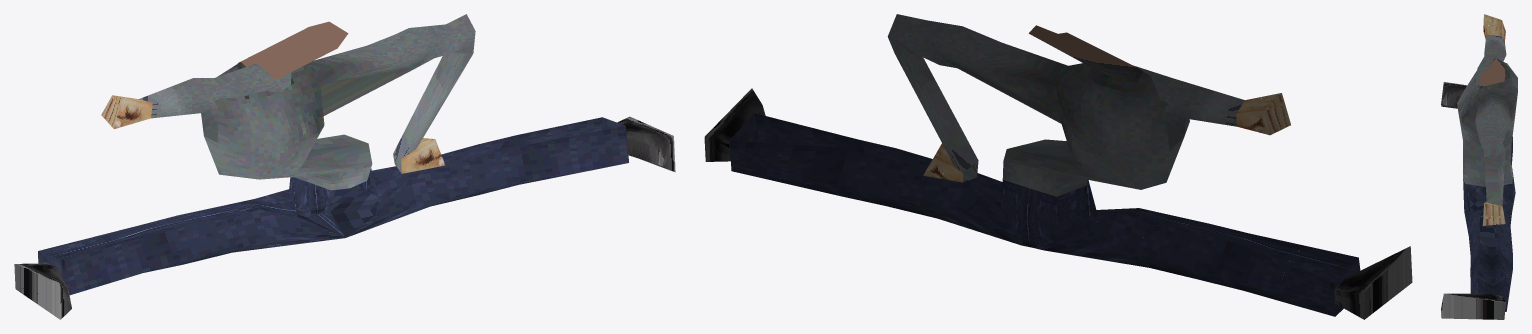
Rendered from CgreymanZ.obj.
3 views of the same model, side by side, from view 1: azimuth 30°, elevation 25°; view 2: azimuth 150°, elevation 25°; view 3: azimuth 270°, elevation 25° (orthographic). The views are drawn at different scales.
Bounding box in the file's own units: 2167 × 683 × 335.
Materials: 17 (17 with a texture image).
